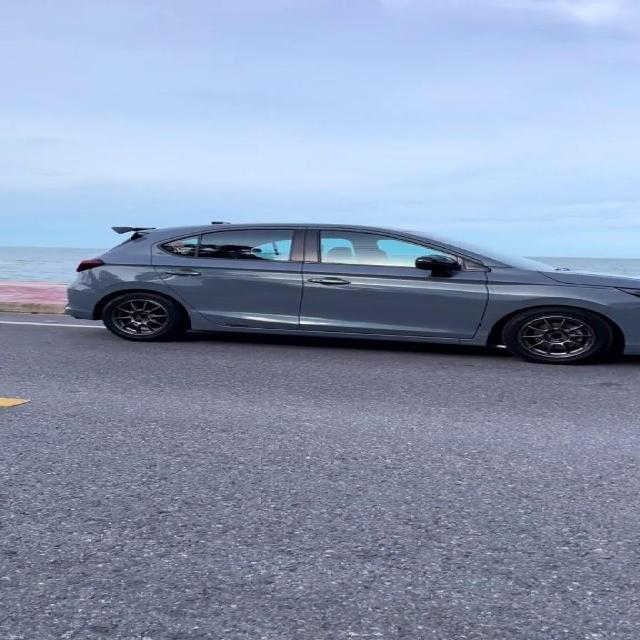Hatchback: (66, 221, 639, 365)
